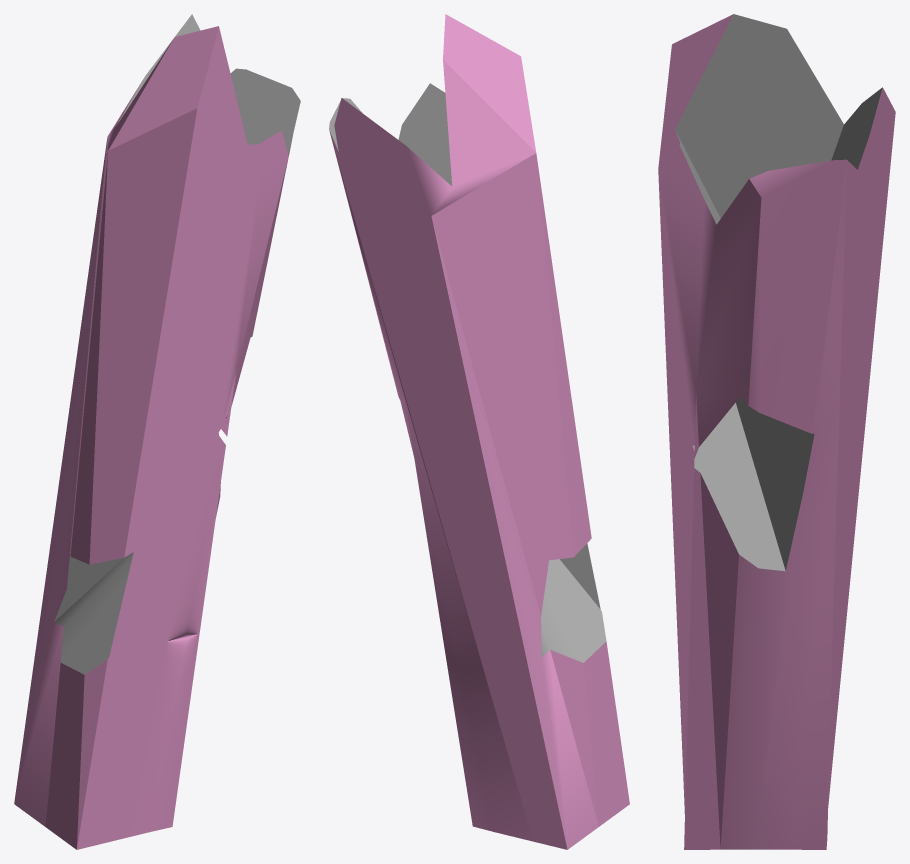
File: Broken_Crystal_4_LOD.fbx
The picture shows the model from 3 angles, left to right: view 1: azimuth 30°, elevation 25°; view 2: azimuth 150°, elevation 25°; view 3: azimuth 270°, elevation 25°; orthographic projection. The views are drawn at different scales.
Parts seen in each view (by area): view 1: polySurface166; view 2: polySurface166; view 3: polySurface166.
Boxes of the visible parts, x1,y1,x2,y2 form: polySurface166: (14,14,300,849); polySurface166: (329,14,629,849); polySurface166: (658,14,895,849).
Size of the model in its own units: 3.12 by 8.99 by 2.21.
